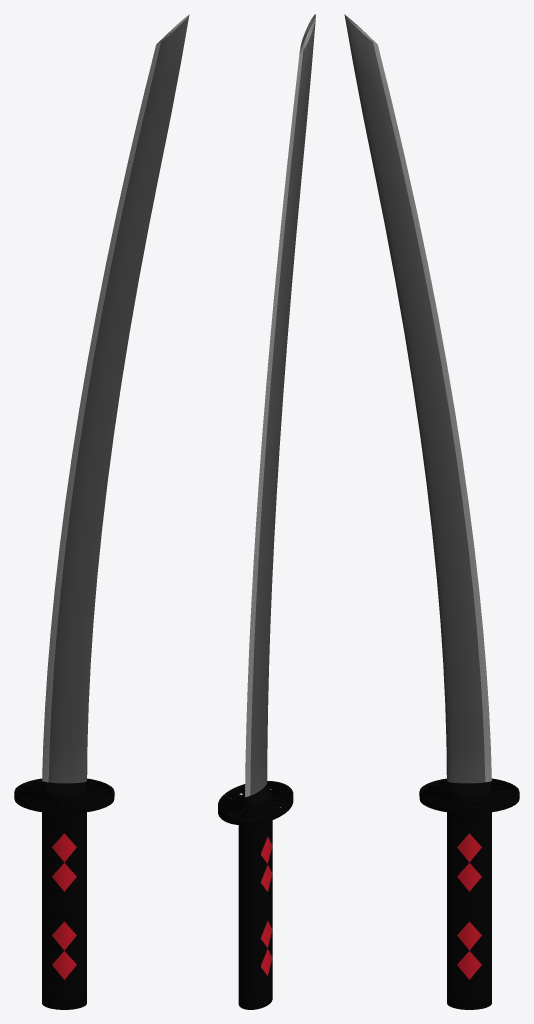
Rendered from Katana.fbx.
3 views of the same model, side by side, from view 1: azimuth 90°, elevation 25°; view 2: azimuth 150°, elevation 25°; view 3: azimuth 270°, elevation 25° (orthographic). The views are drawn at different scales.
Visible parts, largest first — view 1: Cylinder; view 2: Cylinder; view 3: Cylinder.
Part boxes in pixels (box(x1,y1,x2,y2)): Cylinder: box(14, 14, 189, 1009); Cylinder: box(218, 14, 315, 1009); Cylinder: box(344, 14, 519, 1009).
Bounding box in the file's own units: 315 × 4848 × 778.
